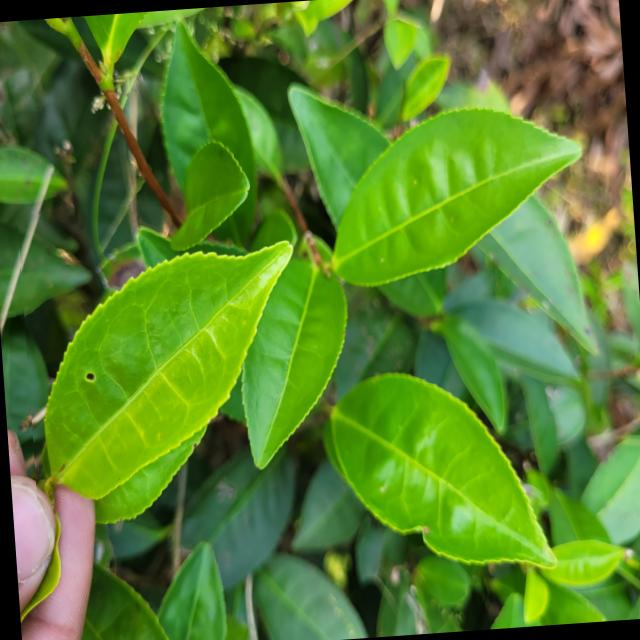Category B(2-4 days): (17, 192, 327, 528)
